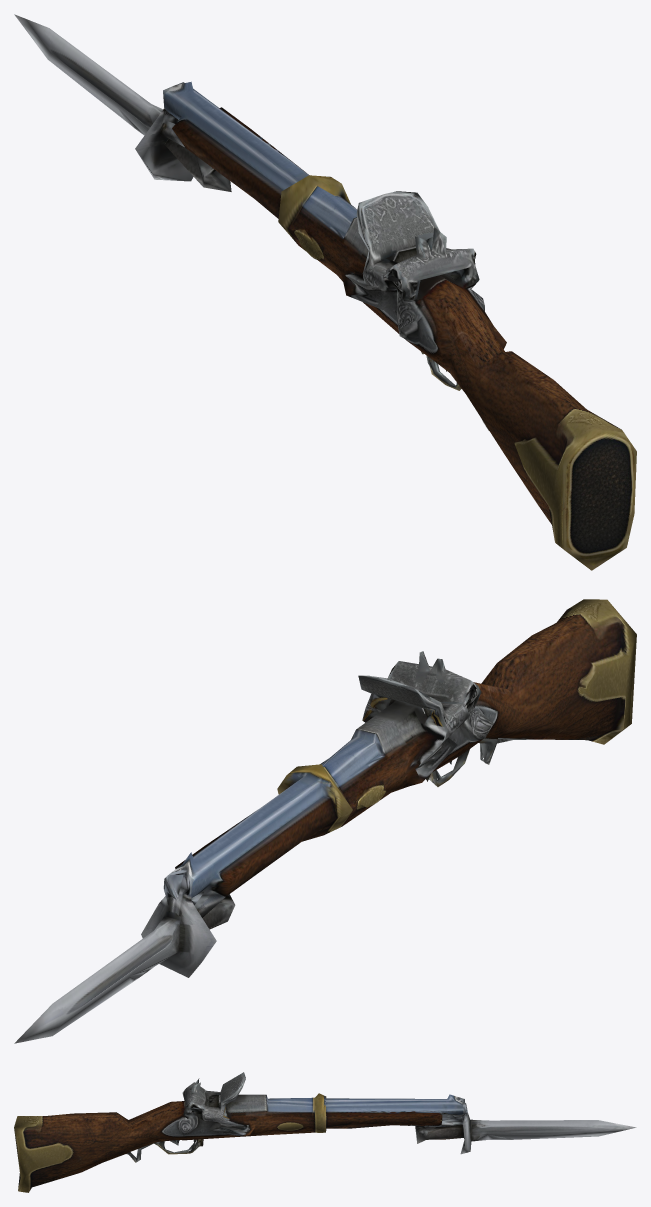
Rendered from infantry_atk_musket.fbx.
The picture shows the model from 3 angles, top to bottom: view 1: azimuth 30°, elevation 25°; view 2: azimuth 150°, elevation 25°; view 3: azimuth 270°, elevation 25°; orthographic projection. The views are drawn at different scales.
Visible parts, largest first — view 1: tripo_node_ac4340cc-ba25-48b6-a7e1-2e076e39c207; view 2: tripo_node_ac4340cc-ba25-48b6-a7e1-2e076e39c207; view 3: tripo_node_ac4340cc-ba25-48b6-a7e1-2e076e39c207.
Boxes of the visible parts, x1=… form: tripo_node_ac4340cc-ba25-48b6-a7e1-2e076e39c207: x1=14, y1=14, x2=636, y2=570; tripo_node_ac4340cc-ba25-48b6-a7e1-2e076e39c207: x1=14, y1=599, x2=636, y2=1043; tripo_node_ac4340cc-ba25-48b6-a7e1-2e076e39c207: x1=14, y1=1072, x2=636, y2=1192.
Bounding box in the file's own units: 8.9 × 20.38 × 99.12.
Materials: 1 (1 with a texture image).
